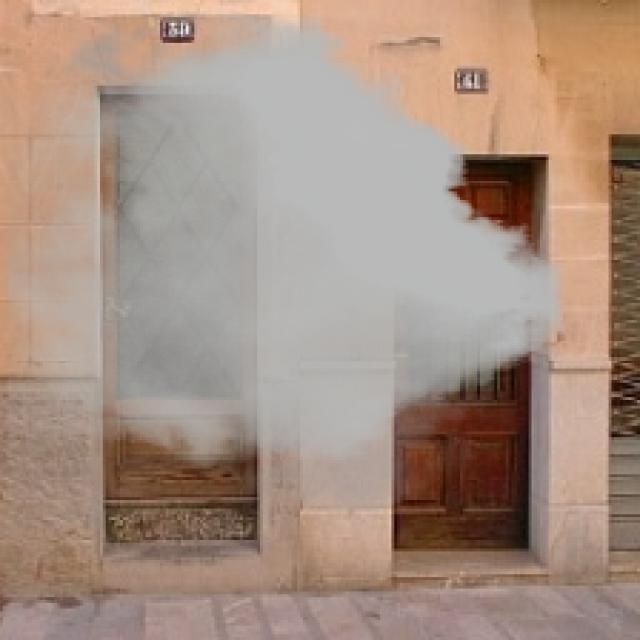smoke: (8, 6, 566, 526)
